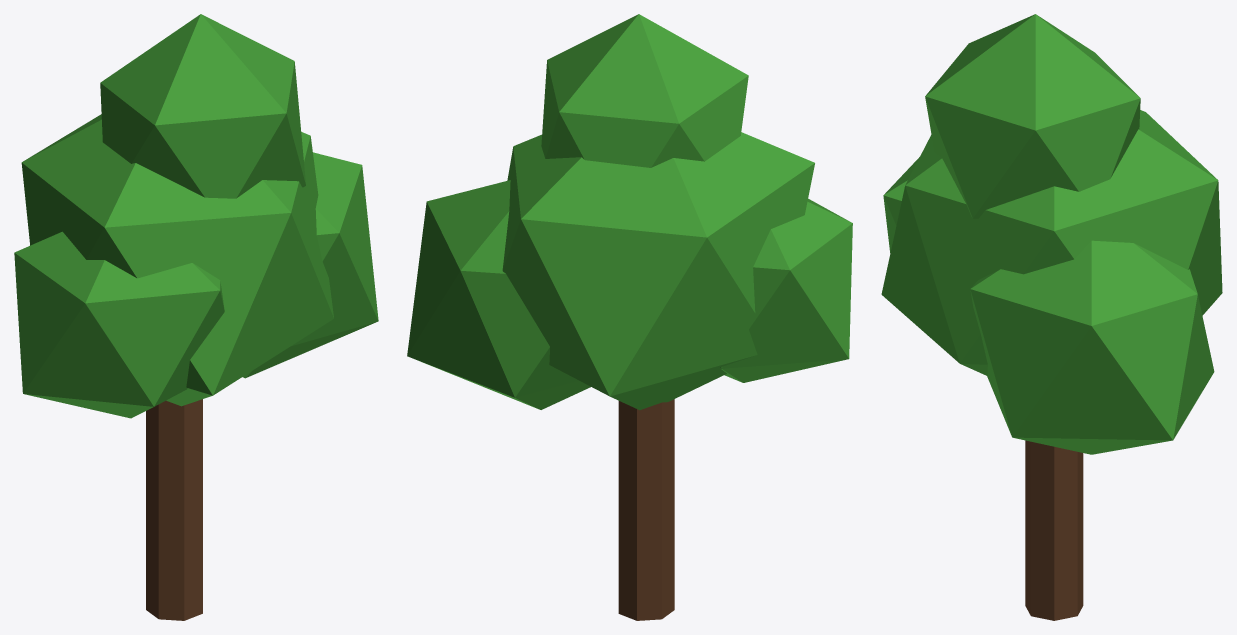
The model's file is tree_round.glb.
The picture shows the model from 3 angles, left to right: view 1: azimuth 30°, elevation 25°; view 2: azimuth 150°, elevation 25°; view 3: azimuth 270°, elevation 25°; orthographic projection. The views are drawn at different scales.
Parts seen in each view (by area): view 1: Tree_round; view 2: Tree_round; view 3: Tree_round.
Boxes of the visible parts, left/top/right/bottom form: Tree_round: left=14, top=14, right=378, bottom=620; Tree_round: left=407, top=14, right=852, bottom=620; Tree_round: left=881, top=14, right=1222, bottom=620.
Bounding box in the file's own units: 2.4 × 3.56 × 1.83.
